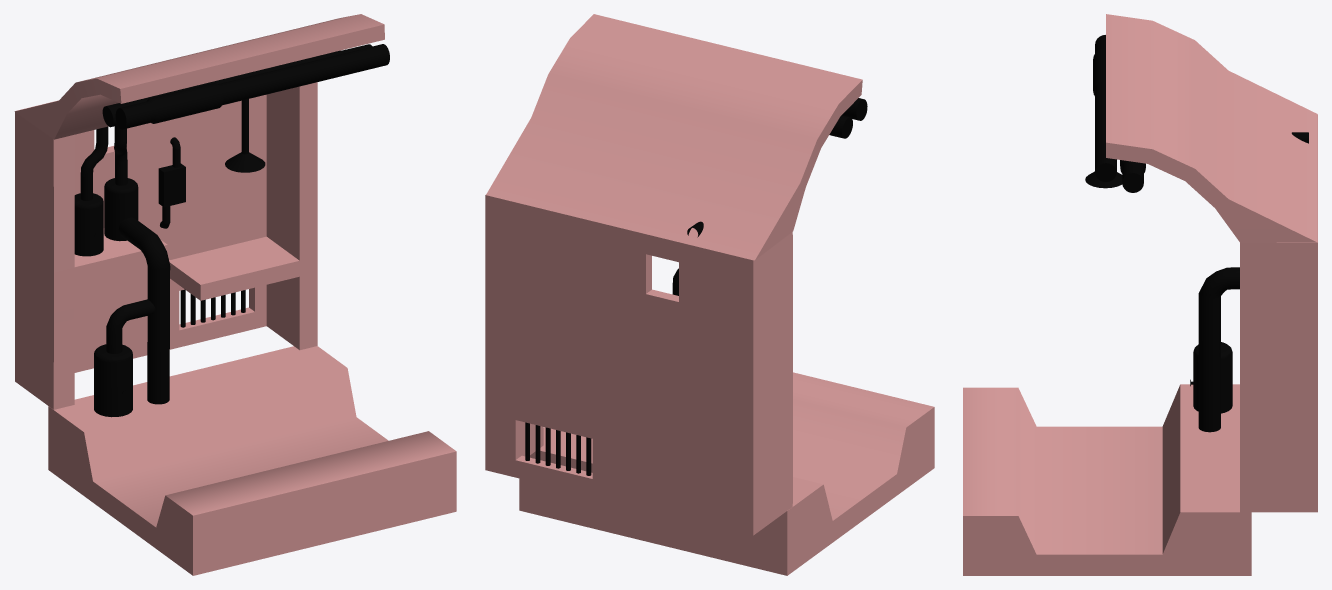
Rendered from sewer_room5.fbx.
3 views of the same model, side by side, from view 1: azimuth 30°, elevation 25°; view 2: azimuth 150°, elevation 25°; view 3: azimuth 270°, elevation 25° (orthographic). The views are drawn at different scales.
Parts seen in each view (by area): view 1: room5_walls, room5_metal; view 2: room5_walls, room5_metal; view 3: room5_walls, room5_metal.
Boxes of the visible parts, x1,y1,x2,y2 form: room5_walls: [14, 14, 456, 575]; room5_metal: [74, 44, 389, 417]; room5_walls: [485, 14, 934, 575]; room5_metal: [525, 98, 867, 475]; room5_walls: [963, 14, 1317, 575]; room5_metal: [1085, 35, 1308, 432].
Size of the model in its own units: 2.01 by 3.15 by 2.34.
